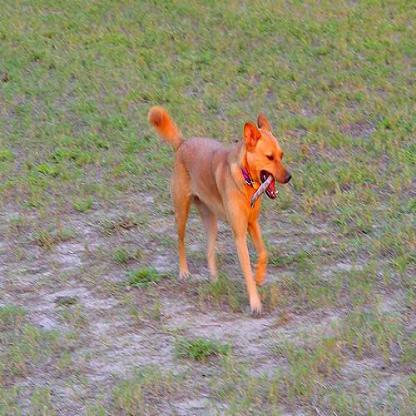dingo: (145, 100, 291, 316)
